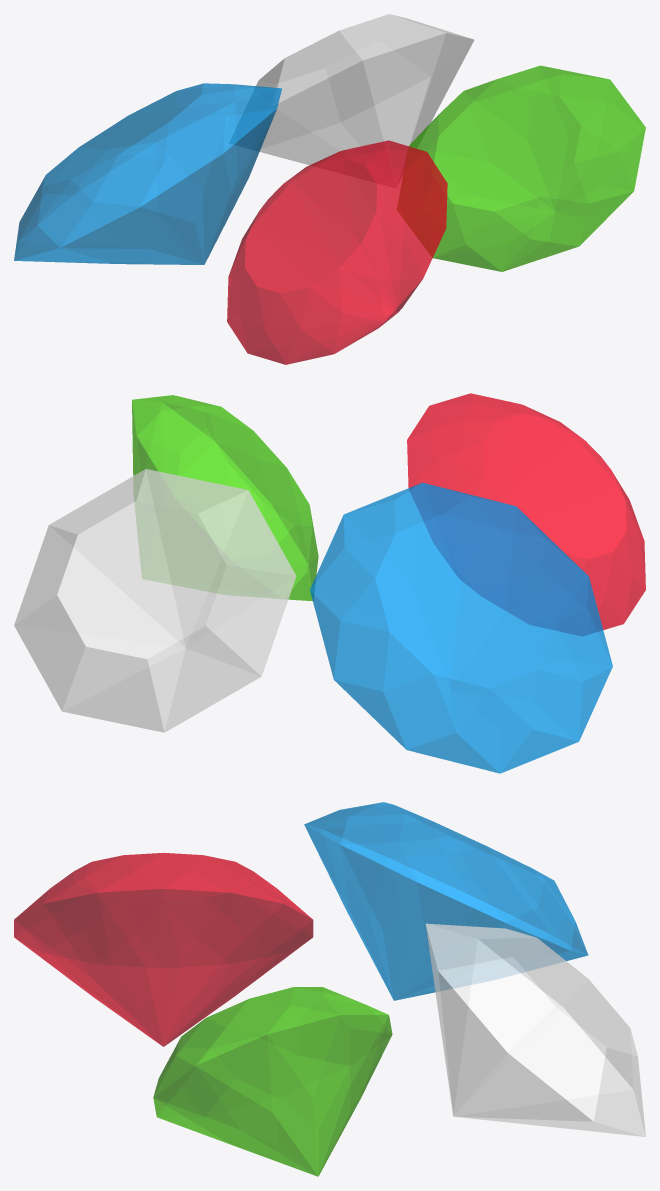
Rendered from saphire.fbx.
3 views of the same model, one above another, from view 1: azimuth 30°, elevation 25°; view 2: azimuth 150°, elevation 25°; view 3: azimuth 270°, elevation 25° (orthographic). The views are drawn at different scales.
Parts seen in each view (by area): view 1: Gem.002, Gem.001, Gem, Diamond; view 2: Gem, Diamond, Gem.001, Gem.002; view 3: Gem.001, Diamond, Gem, Gem.002.
Part boxes in pixels (box(x1,y1,x2,y2)): Gem.002: box(397, 65, 645, 271); Gem.001: box(227, 140, 447, 364); Gem: box(14, 83, 281, 264); Diamond: box(230, 14, 474, 187); Gem: box(310, 482, 612, 773); Diamond: box(14, 469, 296, 732); Gem.001: box(407, 393, 645, 635); Gem.002: box(132, 395, 318, 600); Gem.001: box(14, 852, 313, 1046); Diamond: box(425, 923, 645, 1136); Gem: box(304, 802, 588, 1000); Gem.002: box(153, 987, 392, 1176).
Bounding box in the file's own units: 4.34 × 1.37 × 4.12.
